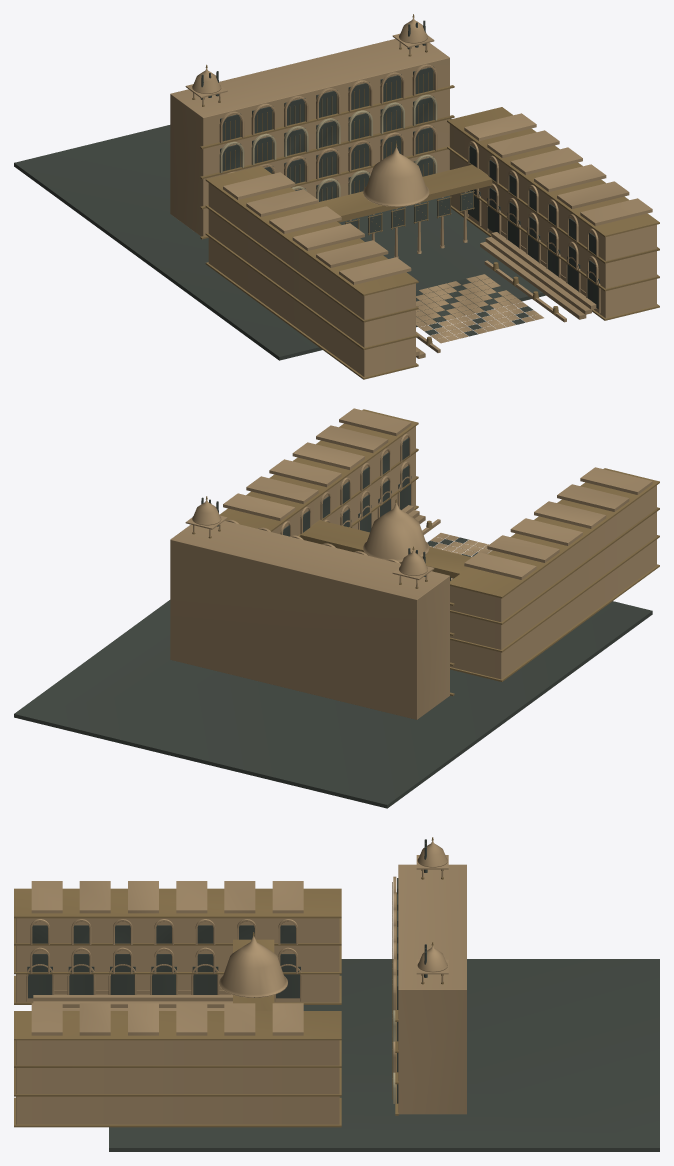
The model's file is arena-70.glb.
3 renders of one model, top to bottom at view 1: azimuth 30°, elevation 25°; view 2: azimuth 150°, elevation 25°; view 3: azimuth 270°, elevation 25°, orthographic. The views are drawn at different scales.
Parts seen in each view (by area): view 1: correction-sand, correction-dark, correction-bronze, correction-plaster; view 2: correction-sand, correction-dark, correction-bronze; view 3: correction-sand, correction-dark, correction-bronze.
Part boxes in pixels (x1,y1,x2,y2): correction-sand: (170,17,656,376); correction-dark: (14,20,599,360); correction-bronze: (192,14,659,379); correction-plaster: (219,94,437,201); correction-sand: (170,408,656,719); correction-dark: (14,438,652,808); correction-bronze: (192,409,659,695); correction-sand: (16,840,466,1124); correction-dark: (27,839,659,1151); correction-bronze: (14,837,443,1127).
Size of the model in its own units: 65 by 26.86 by 93.8.
